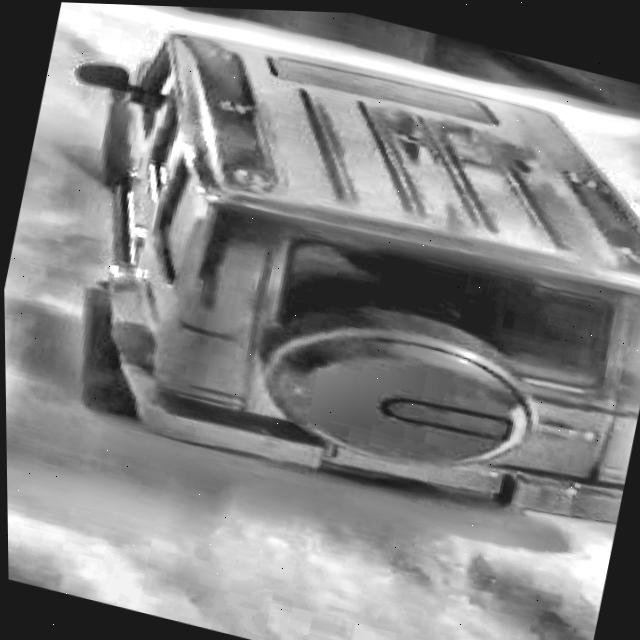light_vehicle: (0, 0, 640, 541)
